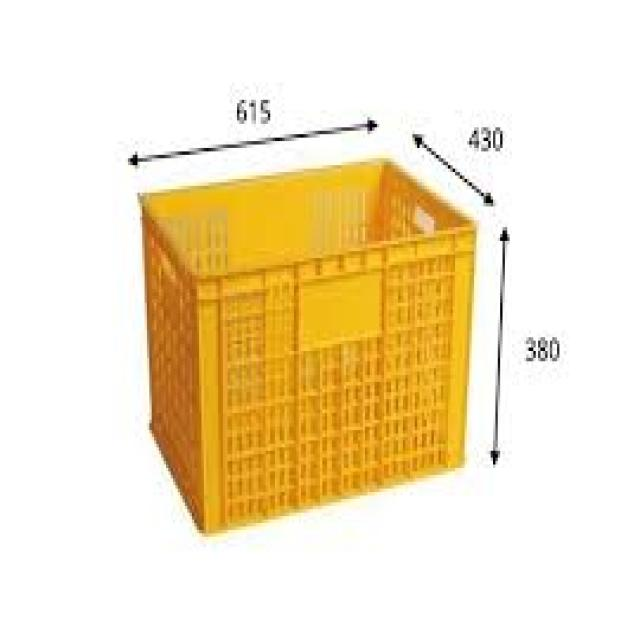basket: (114, 145, 518, 540)
